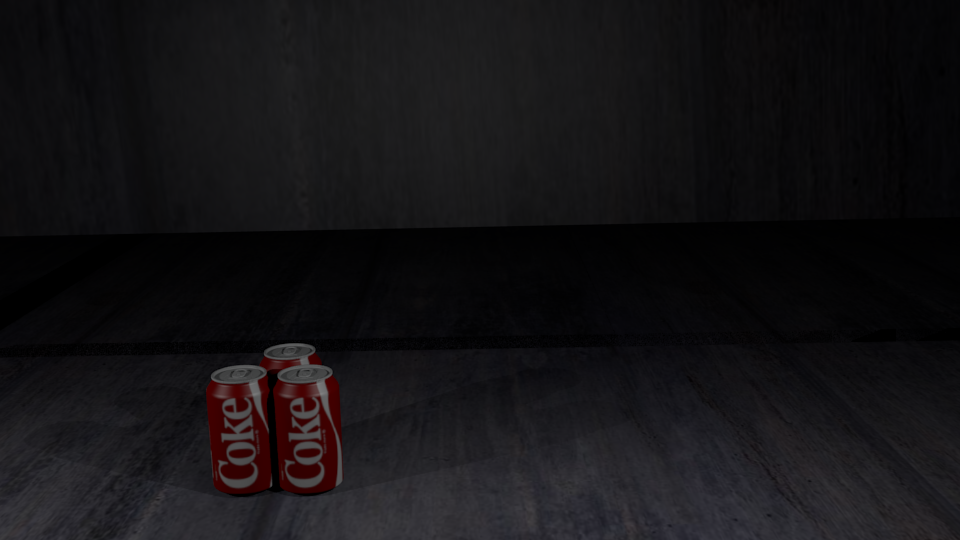cola_can: (206, 365, 275, 490), (273, 365, 341, 489), (259, 344, 320, 461)
